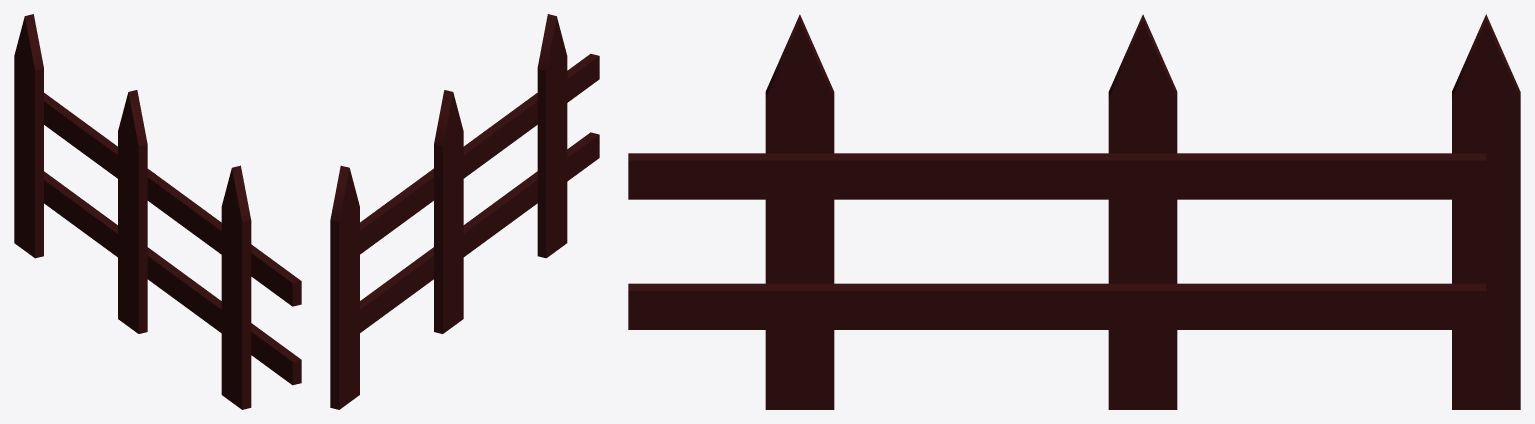
The model's file is fence_end_2.fbx.
The picture shows the model from 3 angles, left to right: view 1: azimuth 30°, elevation 25°; view 2: azimuth 150°, elevation 25°; view 3: azimuth 270°, elevation 25°; orthographic projection. The views are drawn at different scales.
Visible parts, largest first — view 1: Box002; view 2: Box002; view 3: Box002.
Boxes of the visible parts, <box> form: Box002: <box>14,14,301,409</box>; Box002: <box>330,14,599,409</box>; Box002: <box>628,14,1520,409</box>.
Bounding box in the file's own units: 4 × 50 × 104.
